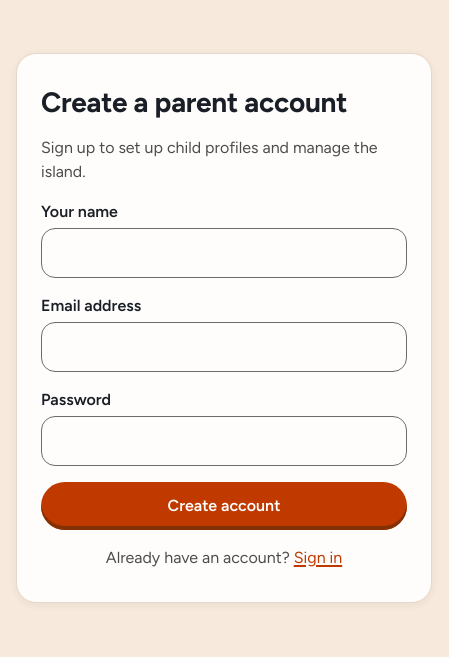
it: SignUpForm › shows field errors instead of submitting when the form is invalid
Click the button "Create account": (224, 506) [41,482,407,530]
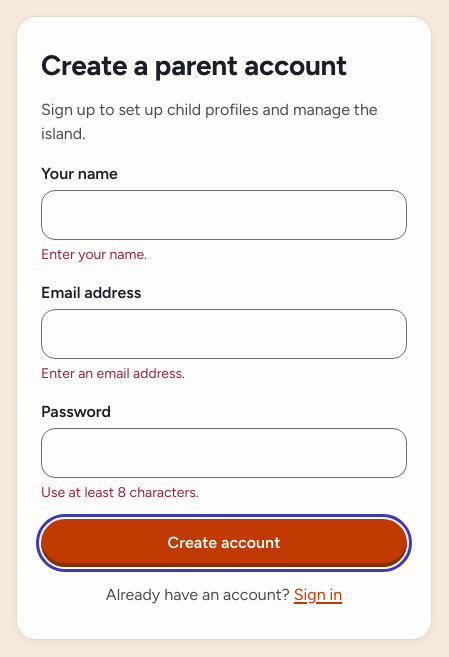
Expected: the text "Enter your name." is shown, [41,246,147,263]
